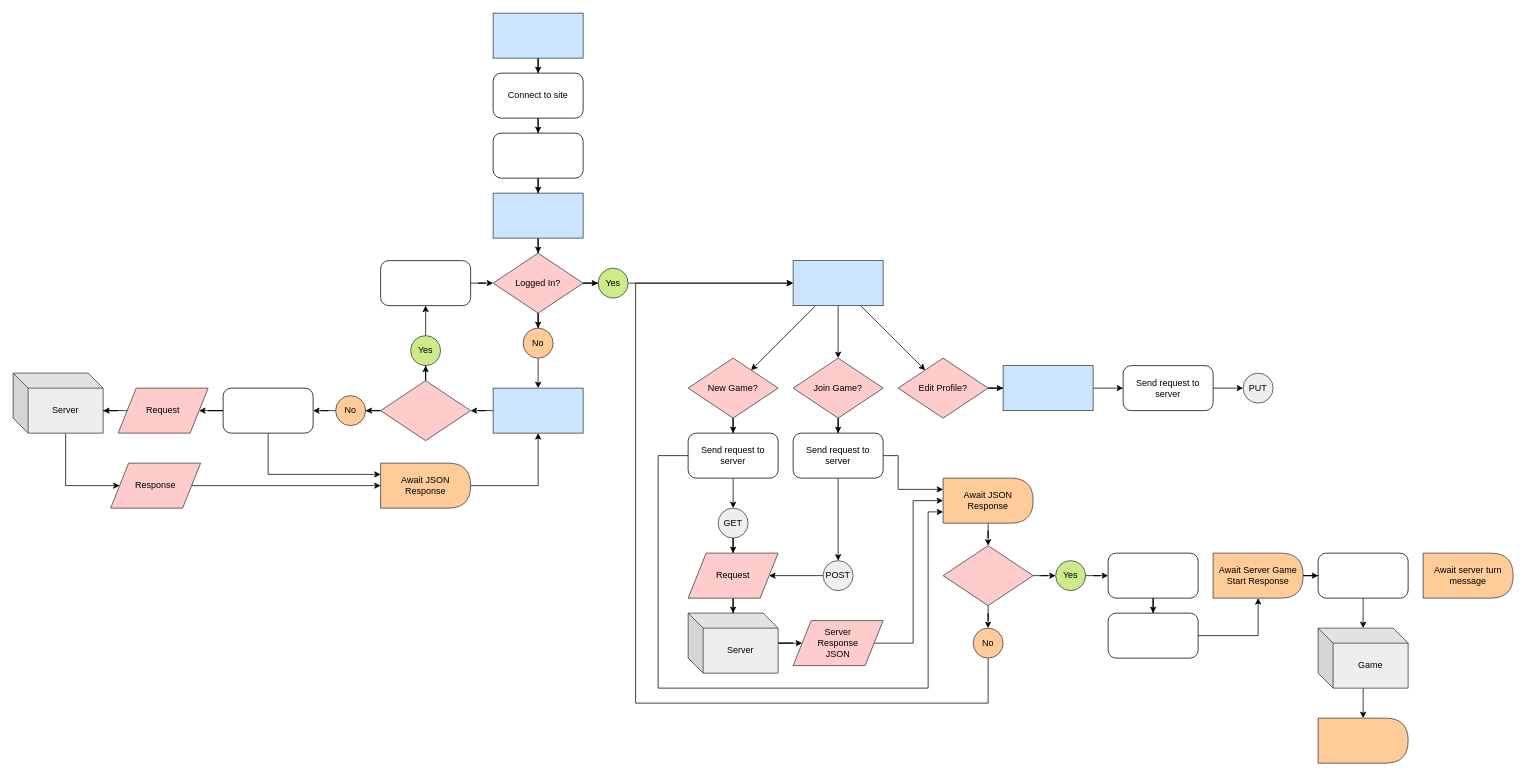
The diagram is 1526 pixels wide and 776 high, and some of its shapes have lost their labels. Here are the shapes that lost their labels. From the top down, the box of each, then its label:
(492, 12, 583, 58): Client
(492, 132, 583, 178): Run React App
(492, 192, 583, 238): Application
(380, 260, 471, 306): Attempt Login
(792, 260, 883, 306): Game Page
(1002, 365, 1093, 411): User Page
(222, 387, 313, 433): Send Signup Request
(380, 380, 471, 441): Has Account?
(492, 387, 583, 433): Authentication Page
(942, 545, 1033, 606): Contains Room ID?
(1107, 552, 1198, 598): Join Room
(1317, 552, 1408, 598): Begin Game
(1107, 612, 1198, 658): Send Game Start Request
(1317, 717, 1408, 763): Await Game Finished
